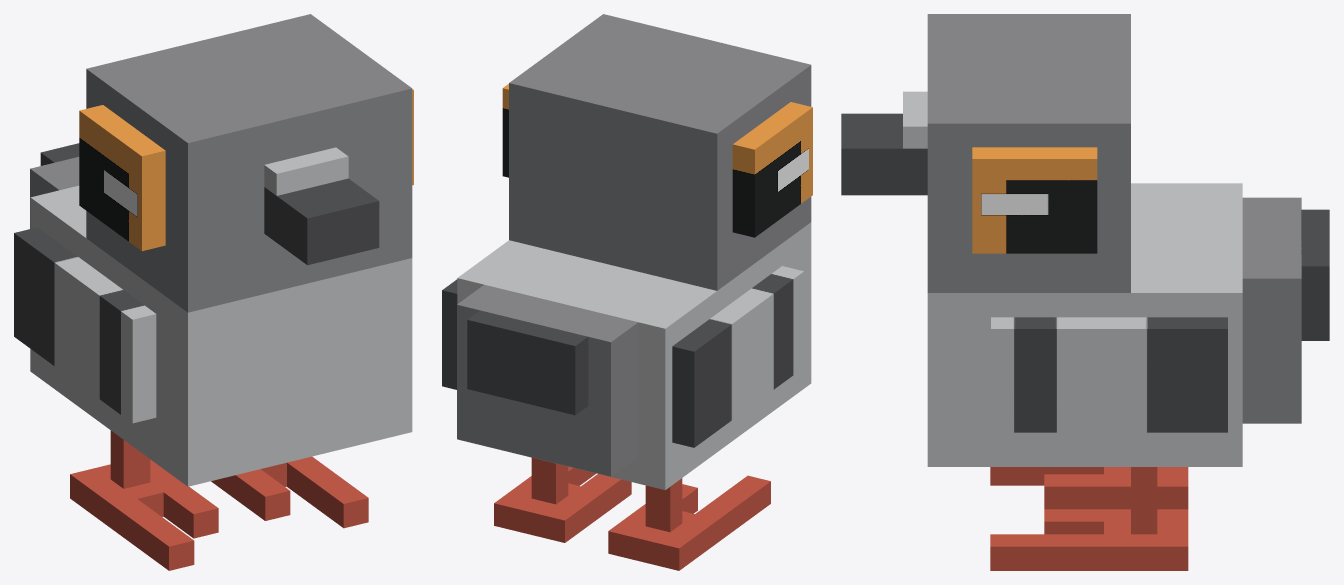
Rendered from Pigeon.fbx.
3 views of the same model, side by side, from view 1: azimuth 30°, elevation 25°; view 2: azimuth 150°, elevation 25°; view 3: azimuth 270°, elevation 25° (orthographic). The views are drawn at different scales.
Visible parts, largest first — view 1: Piccione_2; view 2: Piccione_2; view 3: Piccione_2.
Boxes of the visible parts, bbox=[...] form: Piccione_2: bbox=[14, 14, 413, 570]; Piccione_2: bbox=[442, 14, 812, 570]; Piccione_2: bbox=[841, 14, 1329, 570].
Size of the model in its own units: 103 by 164 by 160.
